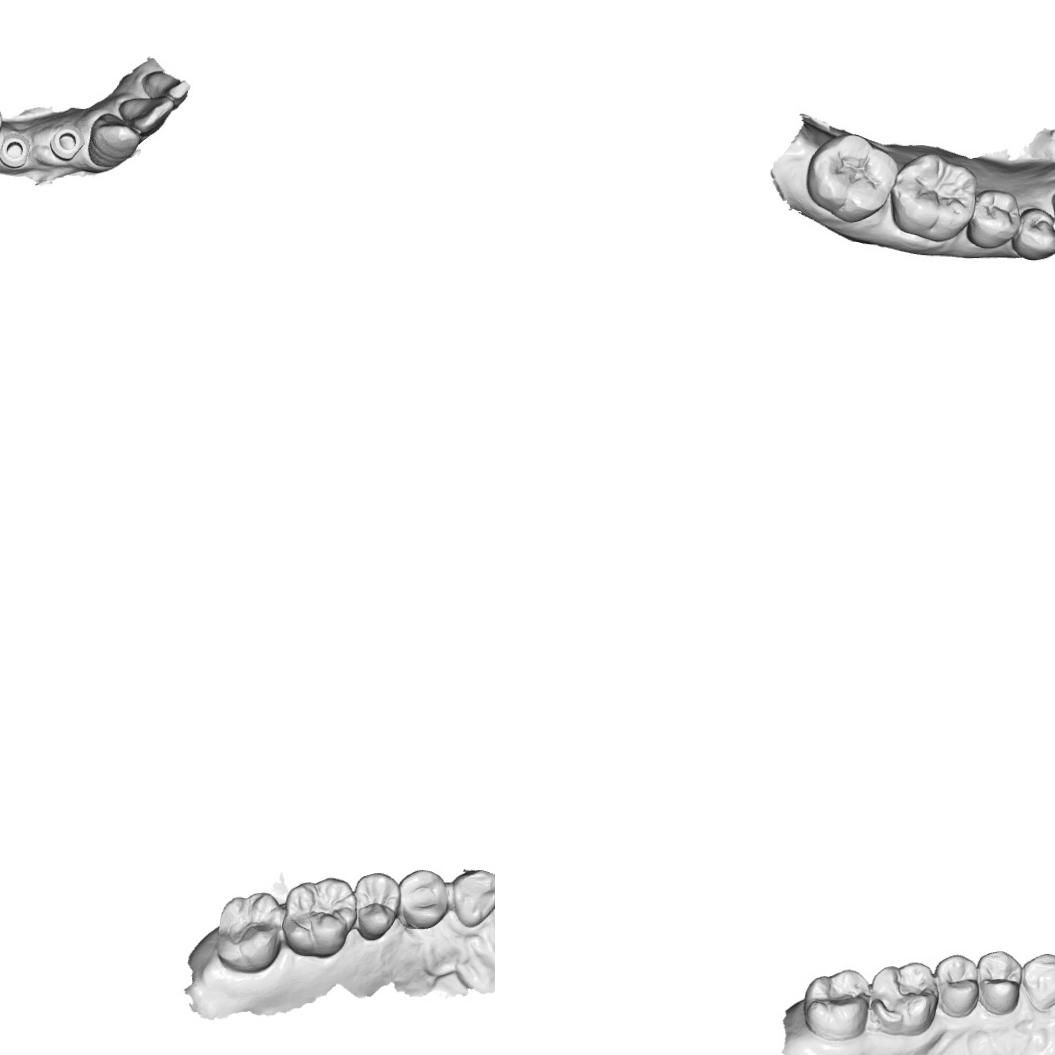canine: (87, 112, 142, 168), (450, 867, 495, 927), (1018, 951, 1055, 1014)
implant: (46, 122, 88, 164), (0, 130, 33, 170)
incisor: (118, 94, 175, 135)
molar: (803, 132, 903, 224), (888, 151, 978, 245), (279, 875, 359, 960), (212, 890, 285, 976), (867, 960, 939, 1038), (801, 966, 871, 1044)
premolar: (353, 870, 403, 943), (397, 868, 450, 932), (933, 952, 982, 1020), (976, 948, 1024, 1017), (968, 190, 1021, 252), (1010, 203, 1055, 262)
